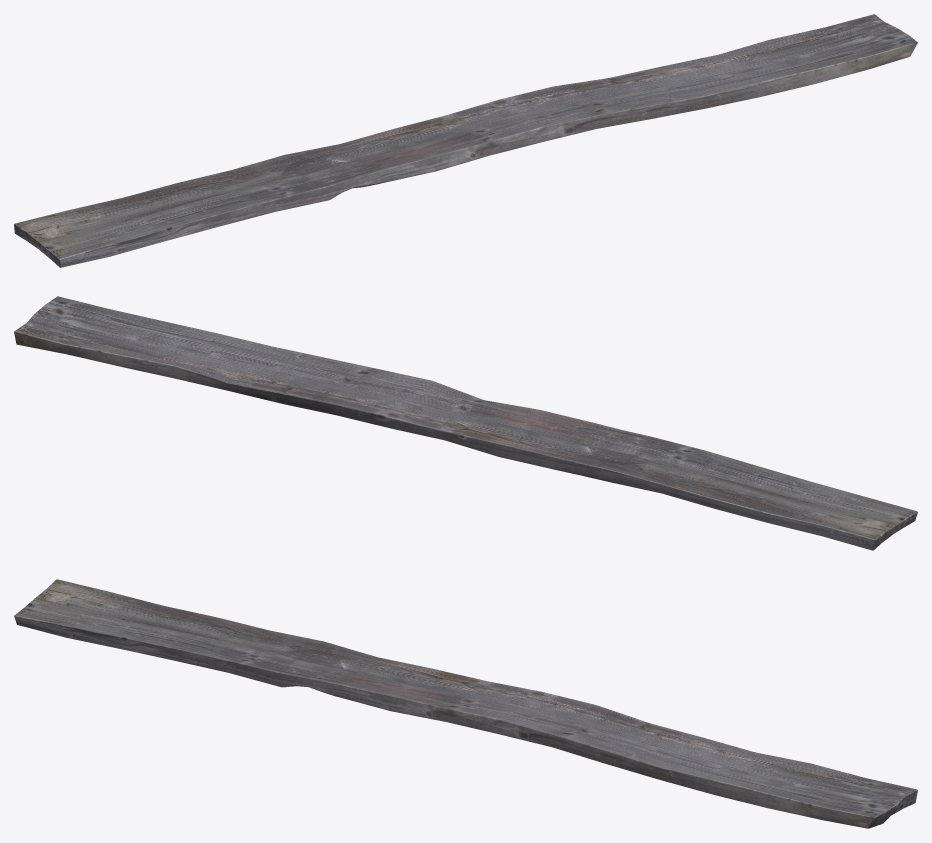
File: SM_WoodPlank_02_06.fbx
3 views of the same model, one above another, from view 1: azimuth 30°, elevation 25°; view 2: azimuth 150°, elevation 25°; view 3: azimuth 330°, elevation 25° (orthographic).
Visible parts, largest first — view 1: sm_WoodPlank_02_06_LOD0; view 2: sm_WoodPlank_02_06_LOD0; view 3: sm_WoodPlank_02_06_LOD0.
Boxes of the visible parts, x1=… form: sm_WoodPlank_02_06_LOD0: x1=14, y1=14, x2=917, y2=267; sm_WoodPlank_02_06_LOD0: x1=14, y1=296, x2=917, y2=550; sm_WoodPlank_02_06_LOD0: x1=14, y1=579, x2=917, y2=828.
Size of the model in its own units: 28.38 by 300 by 8.14.
